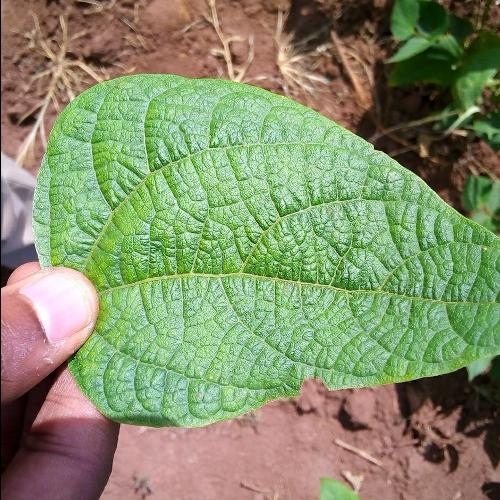sehat: (103, 148, 391, 358)
